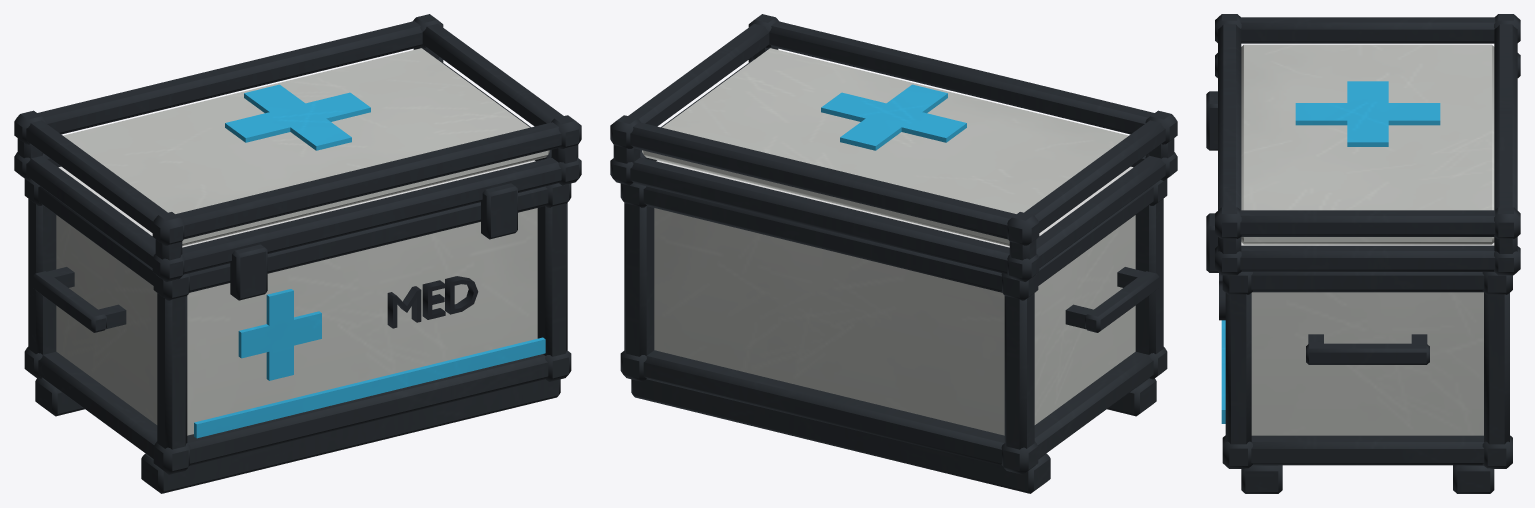
Rendered from med_kit_crate.glb.
The picture shows the model from 3 angles, left to right: view 1: azimuth 30°, elevation 25°; view 2: azimuth 150°, elevation 25°; view 3: azimuth 270°, elevation 25°; orthographic projection.
Parts seen in each view (by area): view 1: med_kit_crate; view 2: med_kit_crate; view 3: med_kit_crate.
Boxes of the visible parts, x1,y1,x2,y2 form: med_kit_crate: (14,14,581,493); med_kit_crate: (610,14,1177,493); med_kit_crate: (1206,14,1520,493).
Size of the model in its own units: 1.05 by 0.61 by 0.6081.
Materials: 5 (5 with a texture image).
